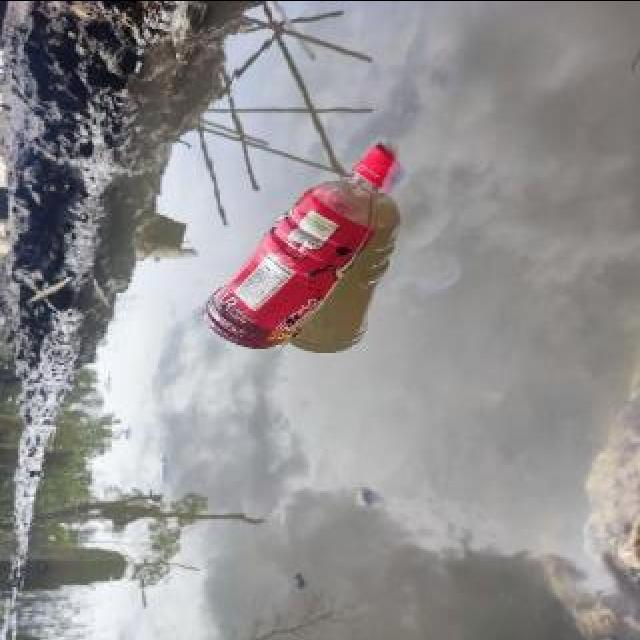Bottle: (195, 139, 401, 349)
